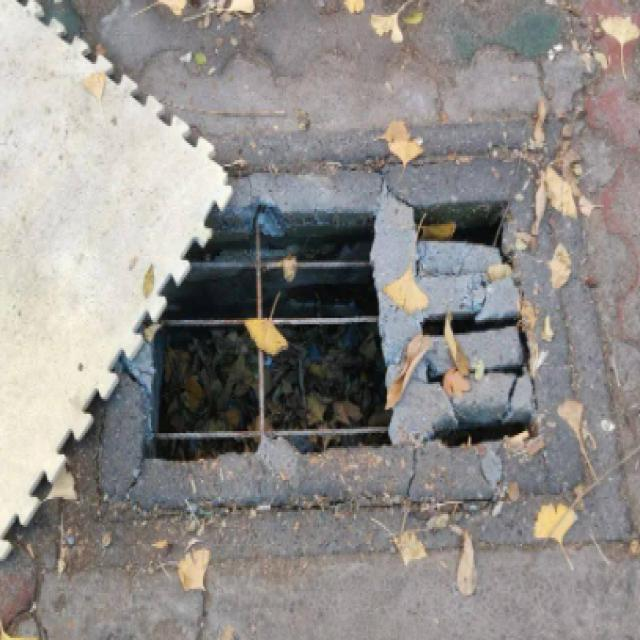manhole: (97, 152, 630, 509)
